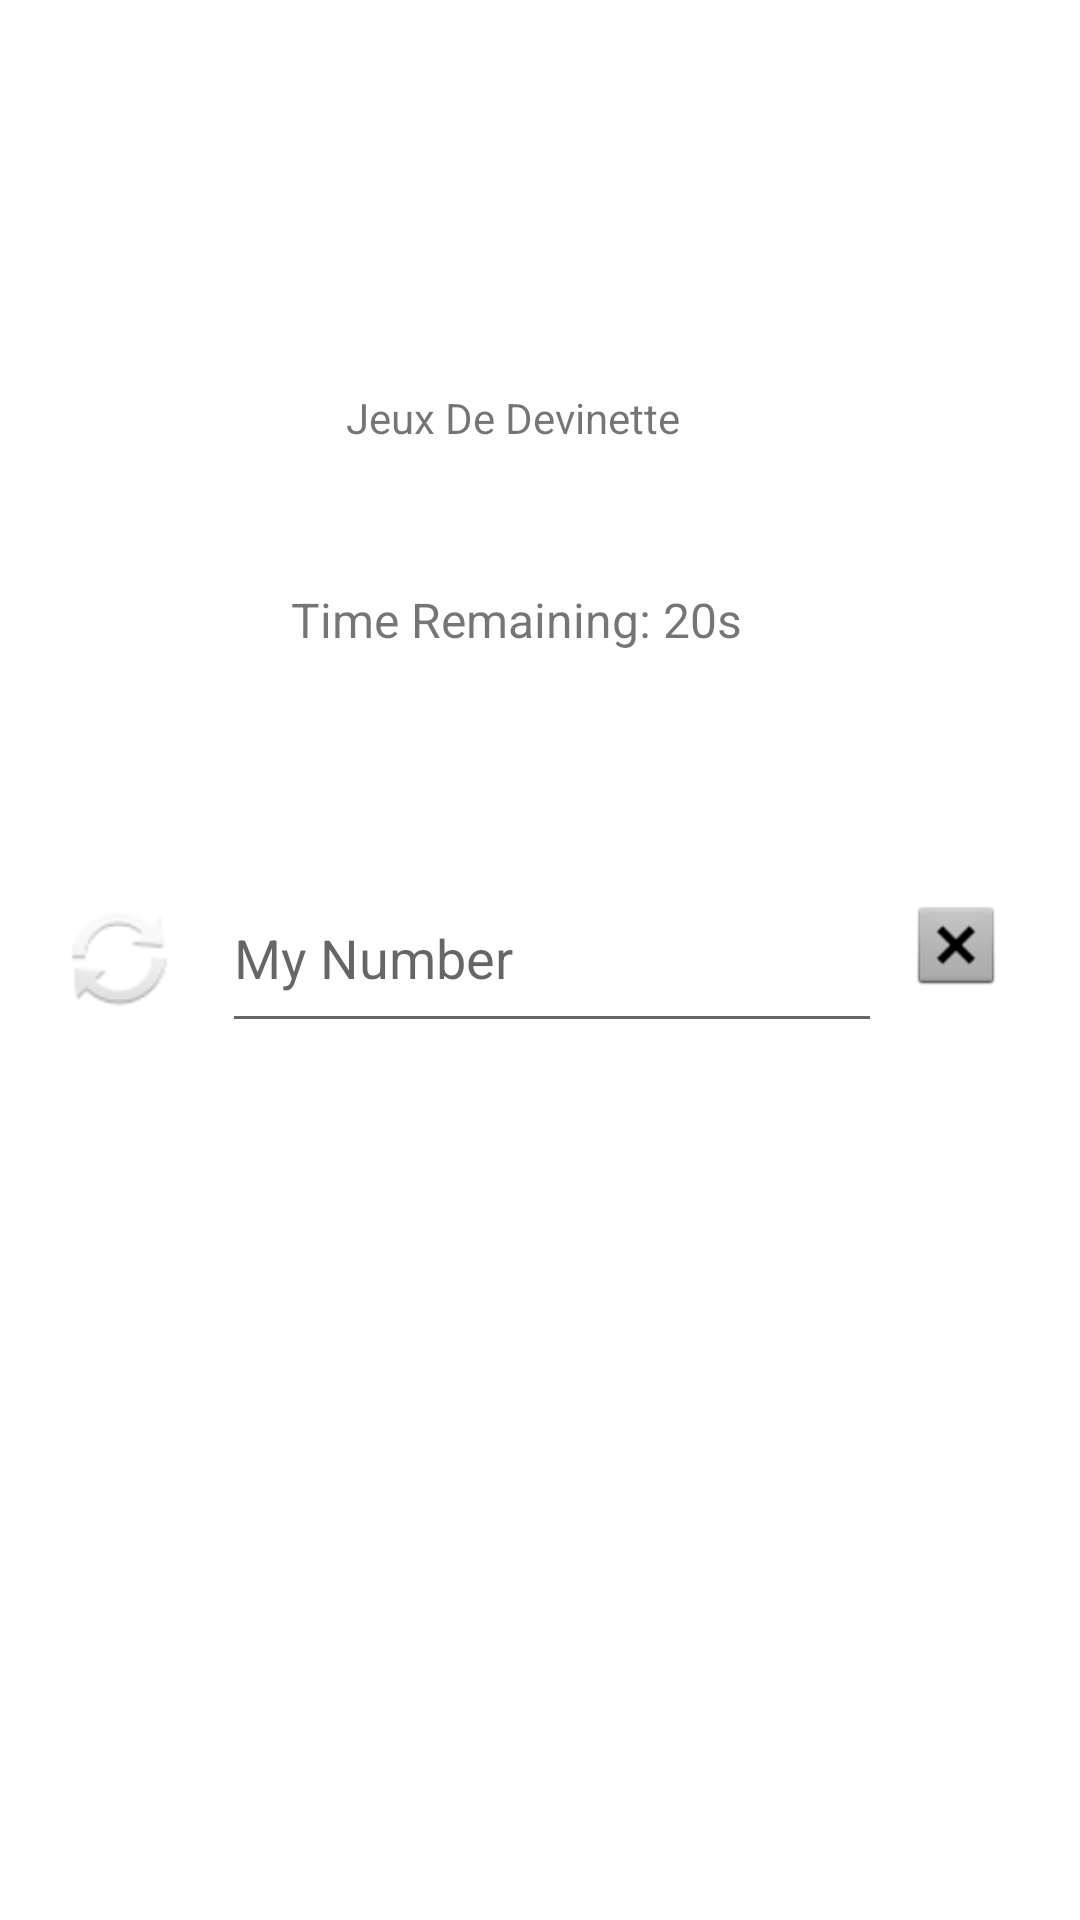

Icons on this 1080x1920 Android screen, each with the point to tap as point (x, y):
popup sync: point (119, 963)
